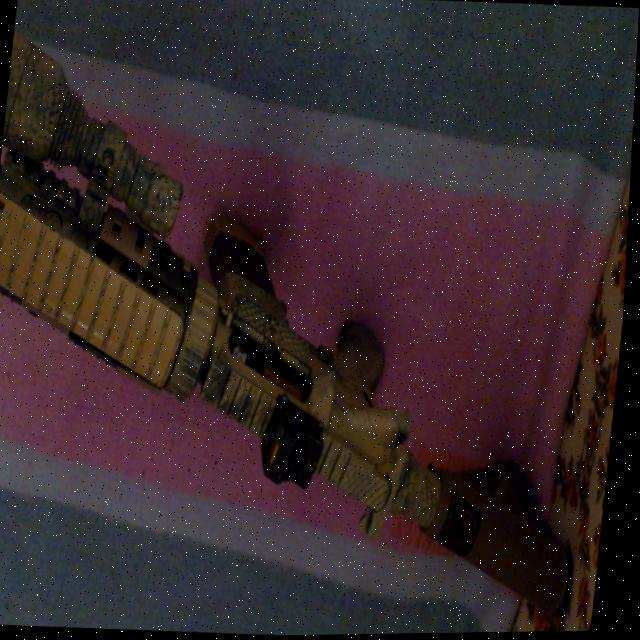firearm: (0, 25, 630, 629)
